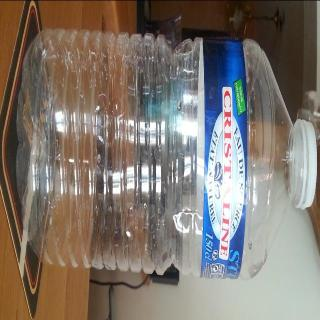Anorganik: (14, 24, 318, 274)
